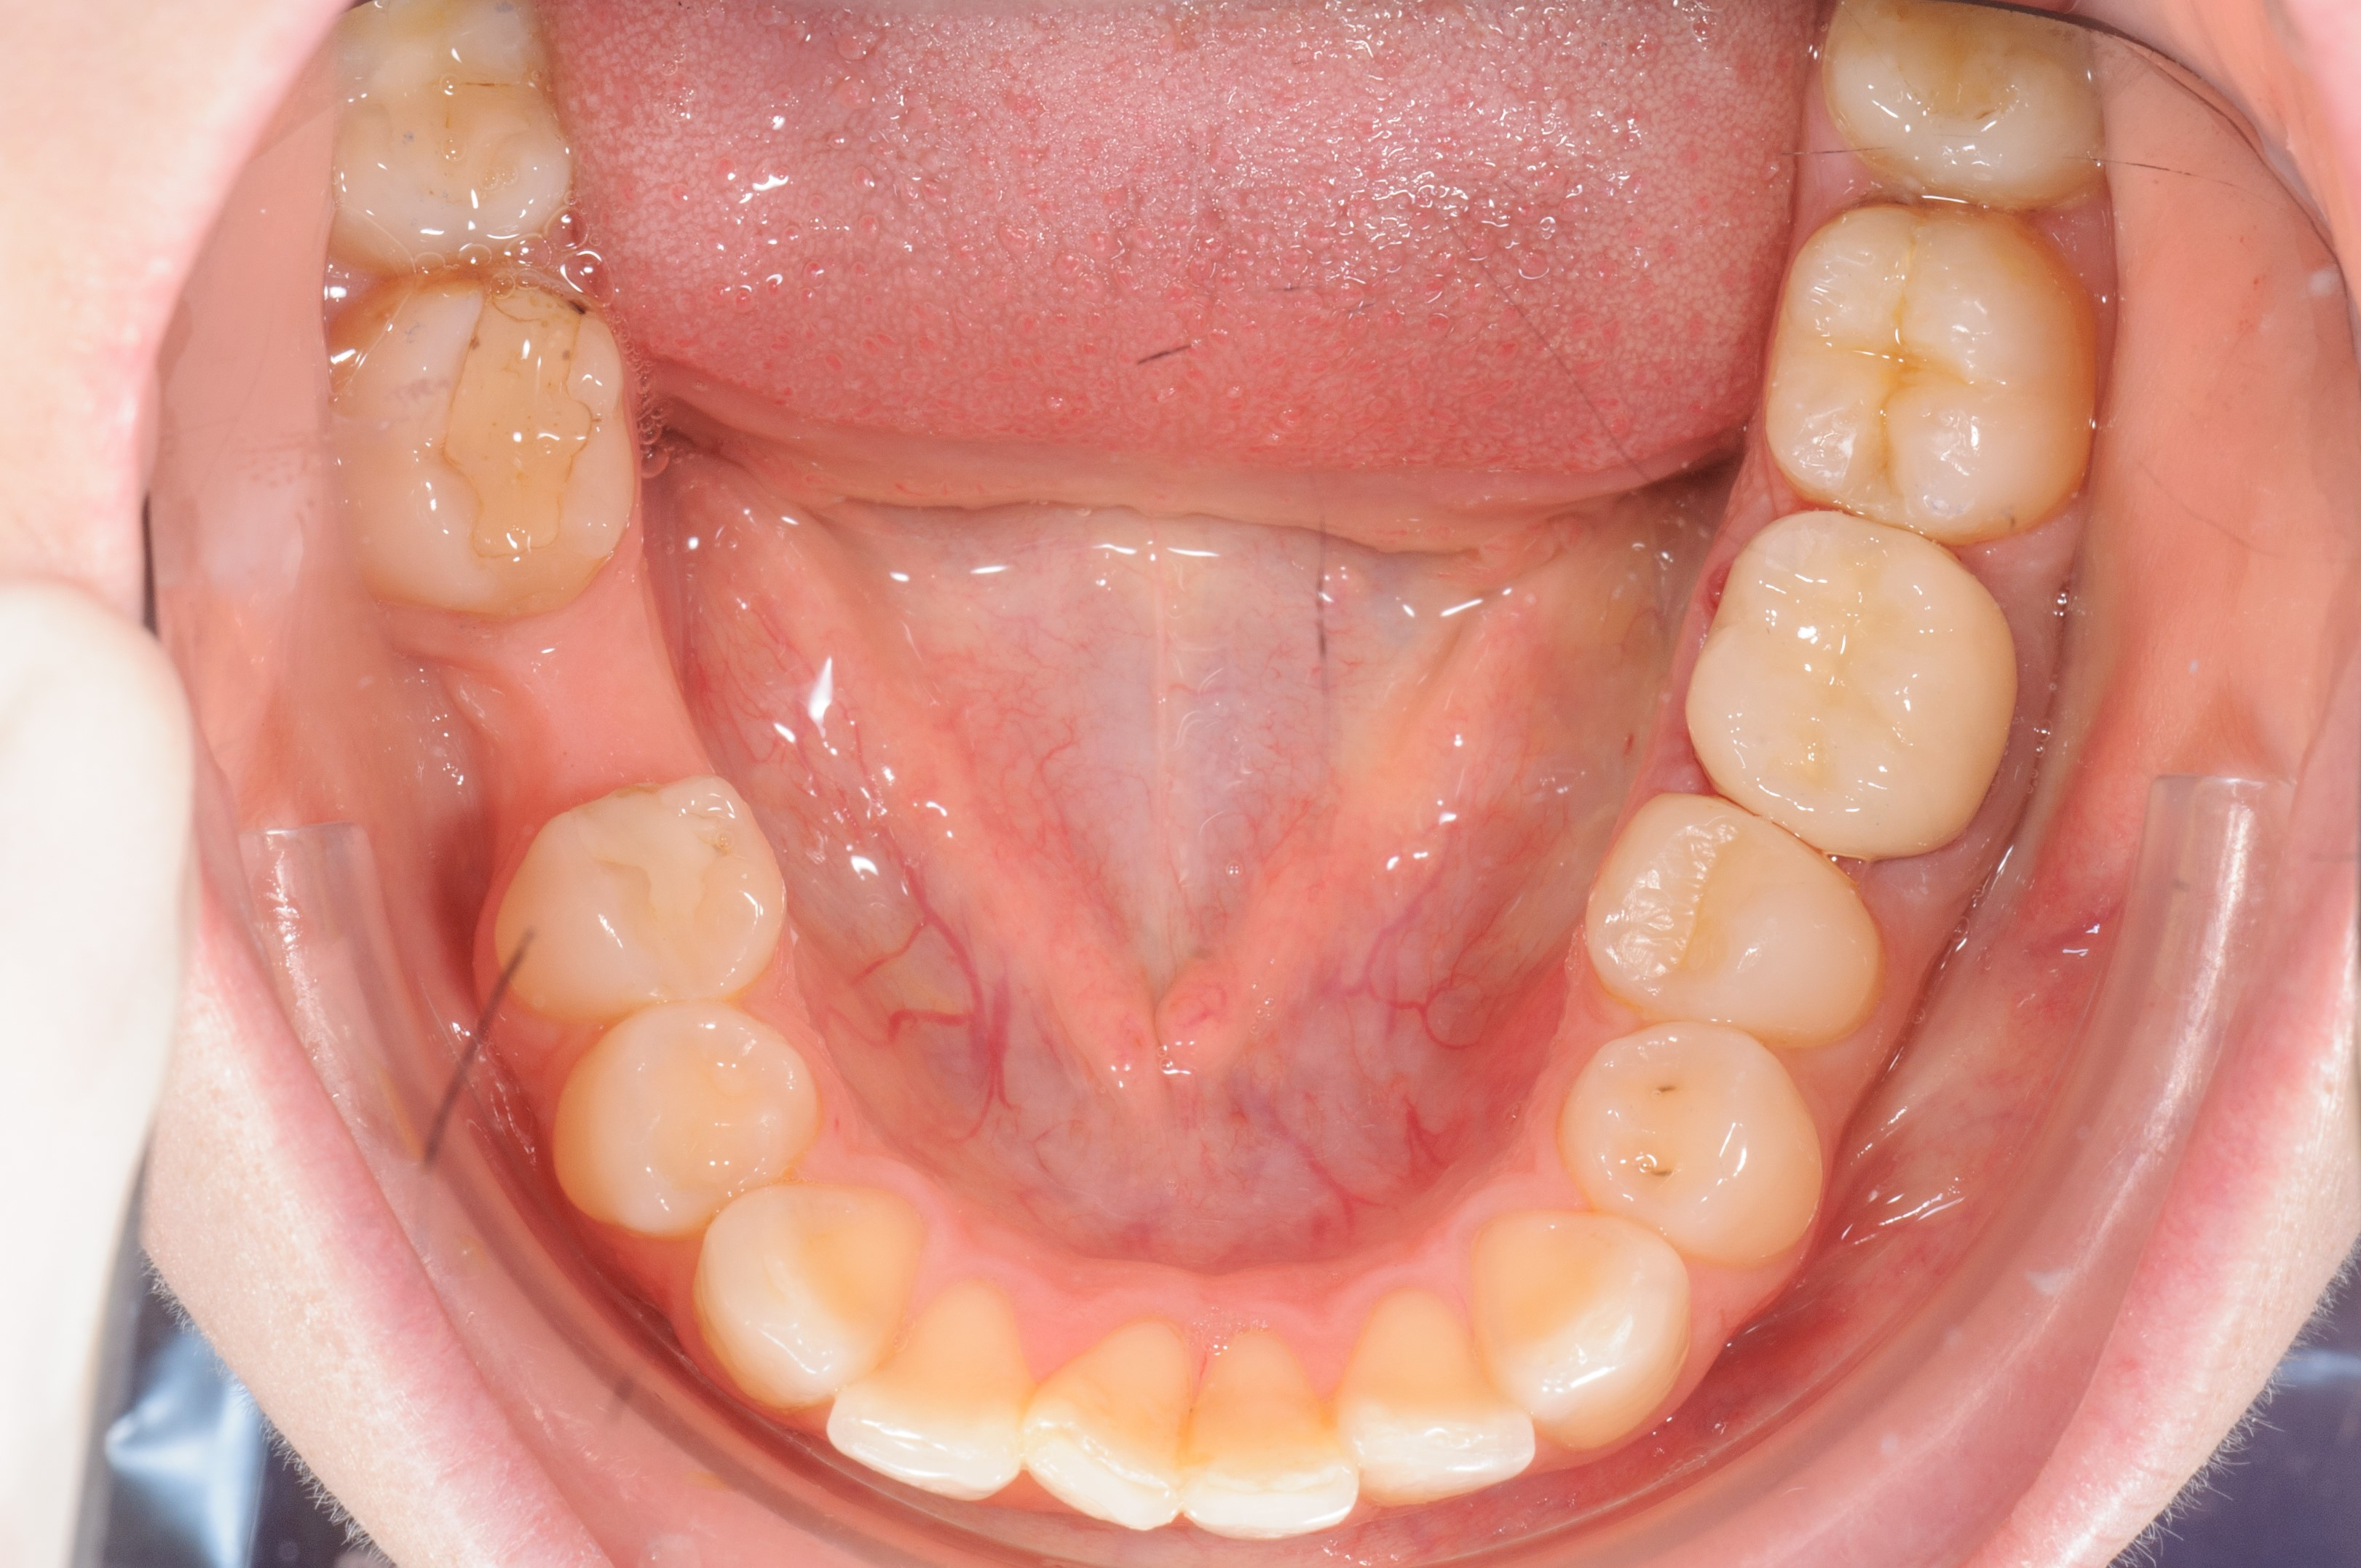LL1BC_decay: (1572, 1034, 1818, 1249)
LL1M_healthy: (1694, 521, 2014, 845)
LL2BC_healthy: (1594, 814, 1874, 1043)
LL2M_healthy: (1782, 238, 2084, 520)
LL3M_decay: (1836, 18, 2093, 192)
LLCI_healthy: (1192, 1346, 1351, 1536)
LLC_healthy: (1481, 1216, 1691, 1423)
LLLI_healthy: (1358, 1309, 1531, 1503)
LR1BC_healthy: (569, 1004, 814, 1232)
LR1M_decay: (467, 600, 707, 800)
LR2BC_healthy: (541, 782, 784, 1012)
LR2M_decay: (348, 282, 632, 590)
LR3M_decay: (348, 14, 571, 252)
LRCI_healthy: (1031, 1332, 1192, 1533)
LRC_healthy: (702, 1192, 921, 1395)
LRLI_healthy: (866, 1295, 1024, 1496)
